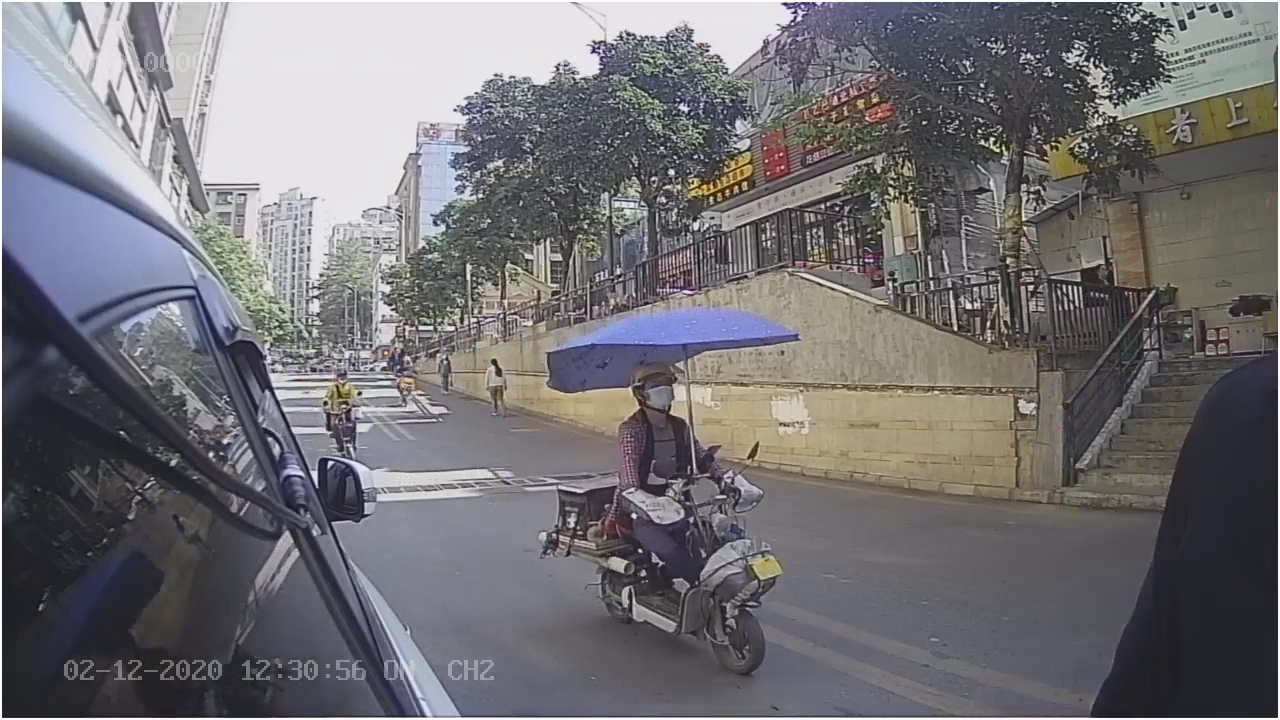person: (612, 359, 723, 503)
